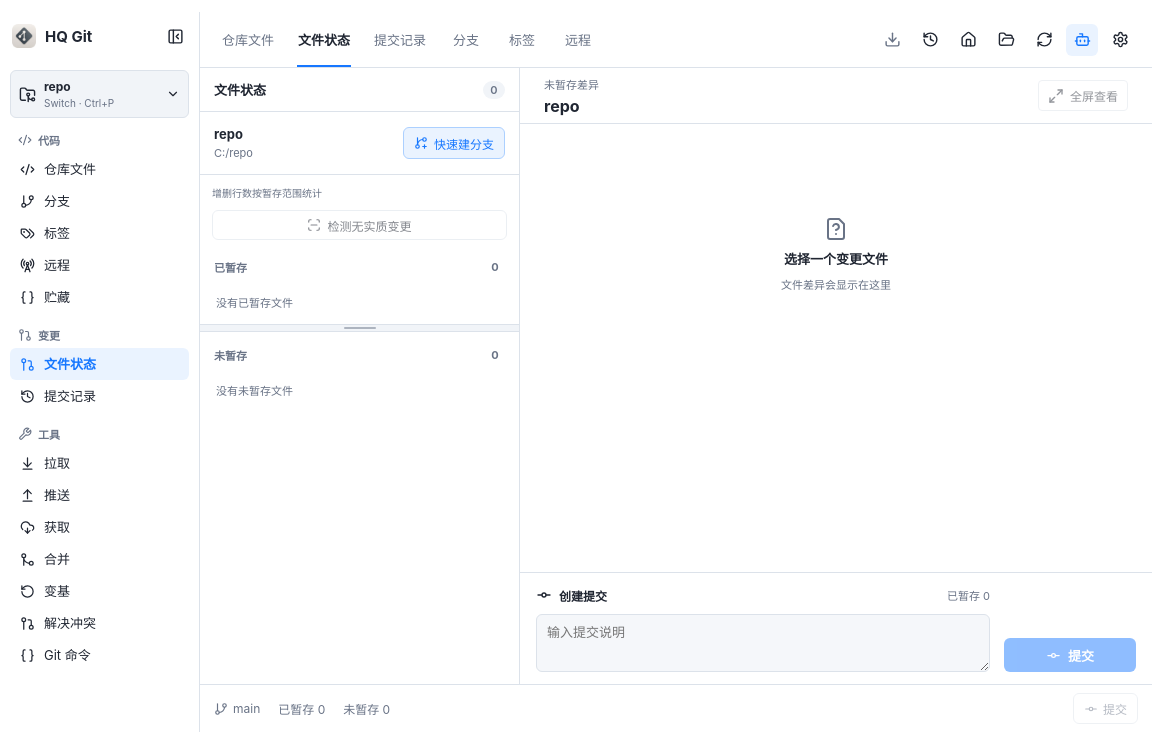
Test: repository files workbench › restricts links to metadata without read or mutation controls
The width and height of the screenshot is (1152, 732).
What coordinates should you click on to do the following:
click the button "仓库文件" below "代码"
I would click on:
 (100, 169)
Its box is x1=10 y1=153 x2=189 y2=185.
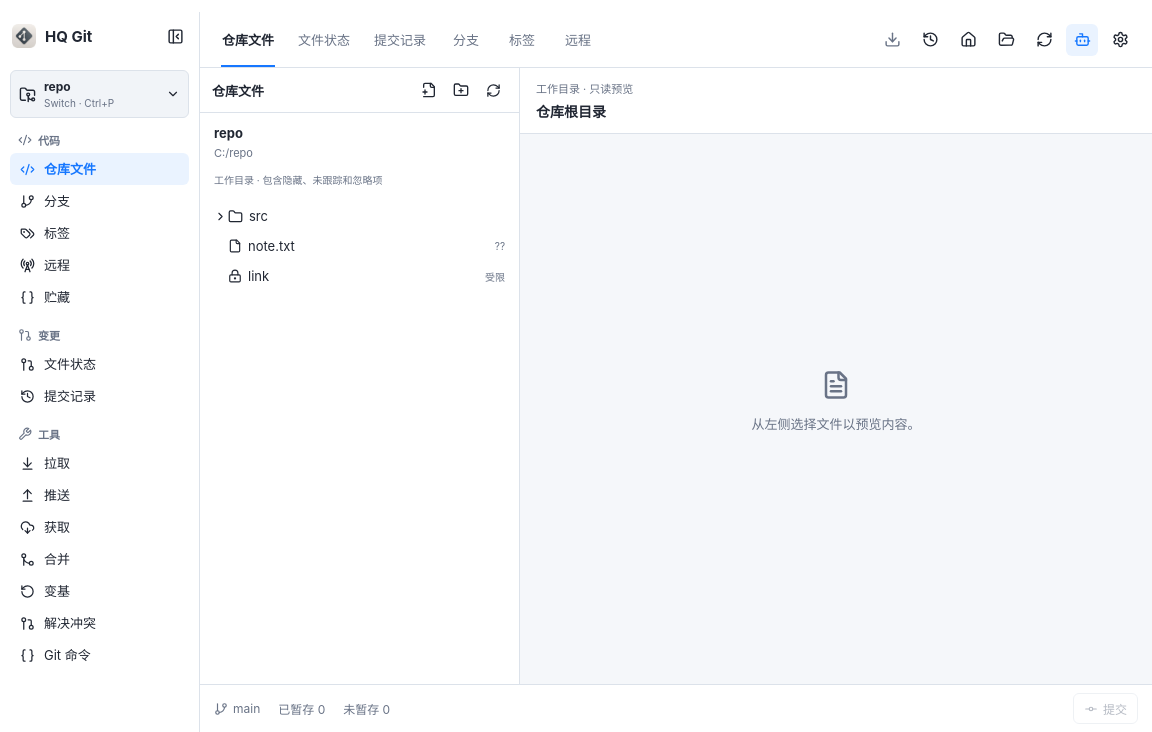
What coordinates should you click on to do the following:
click the button with aria-label "选择受限项 link"
I would click on:
 (235, 276)
Its box is x1=228 y1=261 x2=511 y2=291.
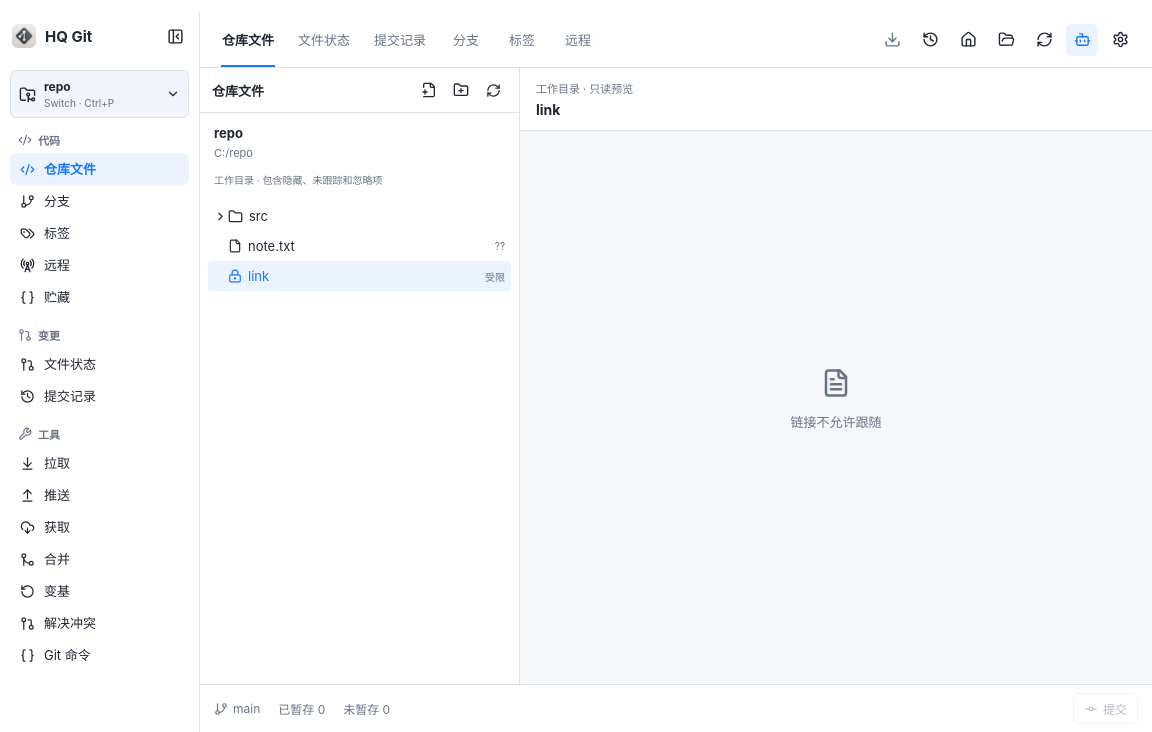
Check: the text "链接不允许跟随" is shown, box x1=790 y1=412 x2=882 y2=434
